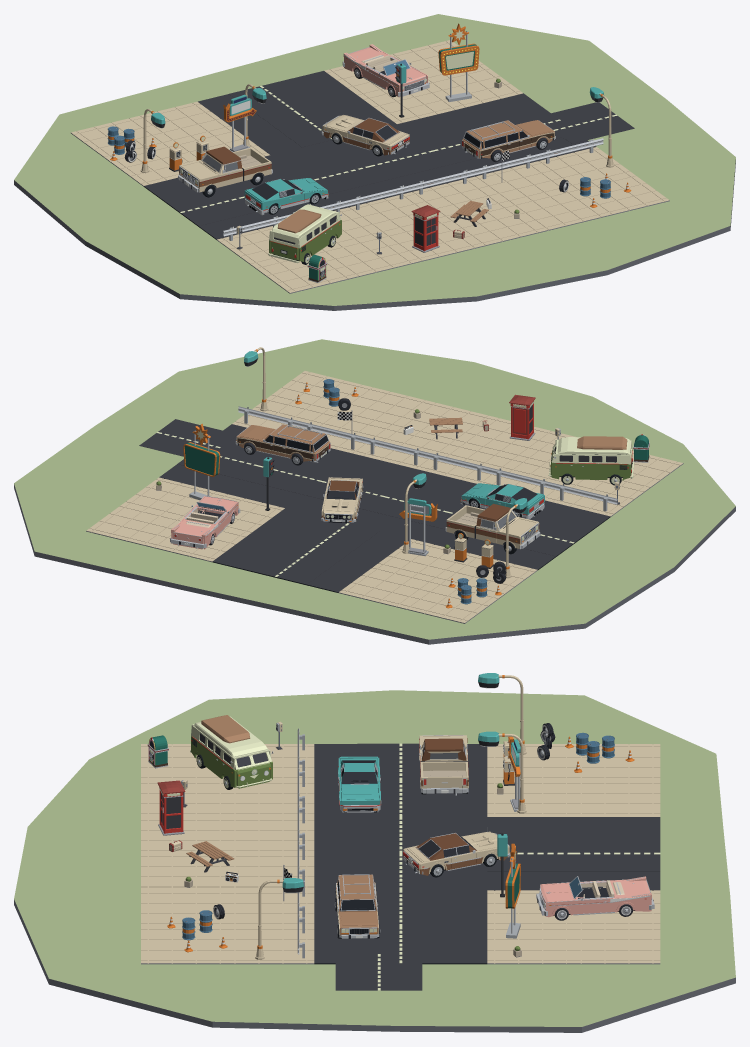
The picture shows the model from 3 angles, top to bottom: view 1: azimuth 30°, elevation 25°; view 2: azimuth 150°, elevation 25°; view 3: azimuth 270°, elevation 25°; orthographic projection. The views are drawn at different scales.
Parts seen in each view (by area): view 1: island, sidewalk-surface (×20), lane-marking-surface (×9), road-surface (×13), camper-van, body, station-wagon-70s, convertible-60s, muscle-car-60s, guardrail-mesh (×4), wedge-coupe-80s, motel-sign (+4 smaller); view 2: island, sidewalk-surface (×20), lane-marking-surface (×8), road-surface (×13), camper-van, body, station-wagon-70s, convertible-60s, guardrail-mesh (×4), wedge-coupe-80s, muscle-car-60s, motel-sign (+2 smaller); view 3: island, sidewalk-surface (×20), lane-marking-surface (×9), road-surface (×16), camper-van, convertible-60s, muscle-car-60s, body, station-wagon-70s, wedge-coupe-80s, street-lamp-body (×3), phone-booth-body (+4 smaller).
Boxes of the visible parts, box(x1,y1,x2,y2) form: island: box(14, 14, 735, 310); sidewalk-surface (×20): box(71, 40, 669, 293); lane-marking-surface (×9): box(162, 78, 634, 225); road-surface (×13): box(144, 71, 596, 239); camper-van: box(268, 204, 341, 263); body: box(178, 146, 272, 192); station-wagon-70s: box(462, 120, 555, 158); convertible-60s: box(342, 44, 429, 97); muscle-car-60s: box(321, 115, 409, 155); guardrail-mesh (×4): box(350, 138, 603, 210); wedge-coupe-80s: box(244, 178, 328, 215); motel-sign: box(438, 23, 479, 101); island: box(14, 339, 735, 644); sidewalk-surface (×20): box(86, 371, 683, 623); lane-marking-surface (×8): box(139, 419, 591, 584); road-surface (×13): box(159, 455, 610, 592); camper-van: box(548, 436, 634, 480); body: box(445, 503, 540, 549); station-wagon-70s: box(235, 424, 330, 462); convertible-60s: box(170, 496, 240, 549); guardrail-mesh (×4): box(364, 437, 617, 511); wedge-coupe-80s: box(460, 483, 544, 519); muscle-car-60s: box(321, 477, 363, 522); motel-sign: box(183, 423, 220, 500); island: box(14, 690, 735, 1032); sidewalk-surface (×20): box(141, 744, 660, 964); lane-marking-surface (×9): box(335, 743, 660, 990); road-surface (×16): box(314, 744, 660, 964); camper-van: box(190, 715, 273, 788); convertible-60s: box(536, 876, 654, 917); muscle-car-60s: box(403, 827, 510, 875); body: box(419, 735, 468, 795); station-wagon-70s: box(335, 874, 379, 938); wedge-coupe-80s: box(338, 756, 381, 812); street-lamp-body (×3): box(255, 673, 526, 959); phone-booth-body: box(157, 780, 185, 835).
Bounding box in the file's own units: 36.84 × 4.96 × 33.37.
